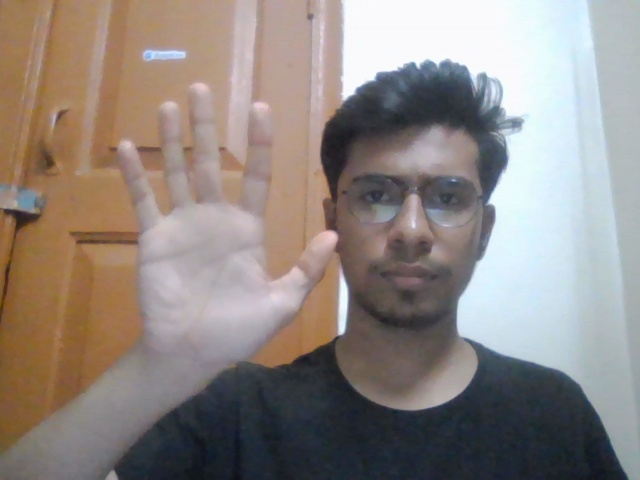Hello: (101, 74, 341, 376)
